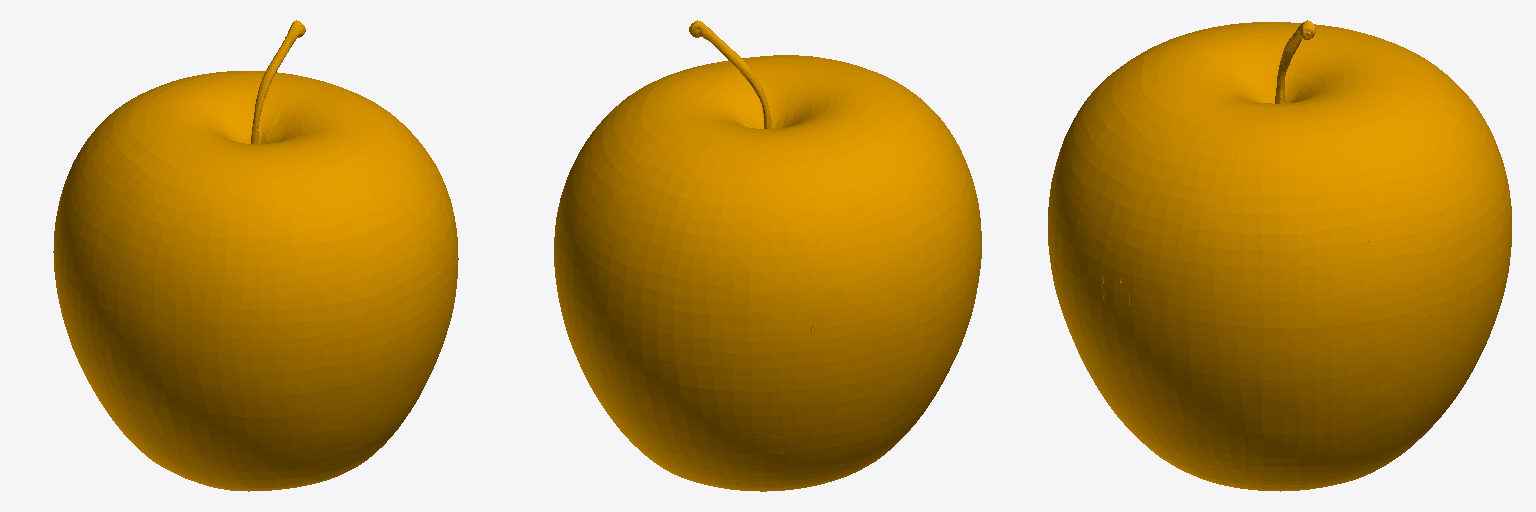
robot.urdf — sample:
<?xml version="1.0" ?>
<robot name="sample">
   <link name="sample">
      <visual>
         <origin xyz="0 0 0" rpy="1.5708 0.0 0.0"/>
         <geometry>
            <mesh filename="mesh/sample.obj" scale="1.0 1.0 1.0"/>
         </geometry>
      </visual>
      <collision>
         <origin xyz="0 0 0" rpy="1.5708 0.0 0.0"/>
         <geometry>
            <mesh filename="mesh/sample_collision.obj" scale="1.0 1.0 1.0"/>
         </geometry>
         <gazebo>
            <mu1>0.40</mu1>
            <mu2>0.30</mu2>
         </gazebo>
      </collision>
      <inertial>
         <mass value="0.1750"/>
         <origin xyz="0 0 0"/>
         <inertia ixx="1.0" ixy="0.0" ixz="0.0" iyy="1.0" iyz="0.0" izz="1.0"/>
      </inertial>
      <extra_info>
         <scale>0.090000</scale>
         <version>v0.1.7</version>
         <category>apple</category>
         <description>green apple with stem on top</description>
         <min_height>0.08</min_height>
         <max_height>0.1</max_height>
         <real_height>0.09</real_height>
         <min_mass>0.15</min_mass>
         <max_mass>0.2</max_mass>
         <color>green</color>
         <rgba>[0.0, 1.0, 0.0, 1.0]</rgba>
         <generate_time>20260526145257</generate_time>
         <gs_model>mesh/sample_gs.ply</gs_model>
      </extra_info>
   </link>
   <custom_data>
      <quality>
         <MeshGeoChecker>YES</MeshGeoChecker>
         <ImageSegChecker>NO. Background artifacts present; object not cleanly isolated.</ImageSegChecker>
         <ImageAestheticChecker>4.711460590362549</ImageAestheticChecker>
         <overall>NO</overall>
      </quality>
   </custom_data>
</robot>

--- What the picture shows (computed from the rendered views, not written in the file) ---
The picture shows the robot from 3 angles, left to right: view 1: azimuth 30°, elevation 25°; view 2: azimuth 150°, elevation 25°; view 3: azimuth 270°, elevation 25°; orthographic projection.
Model sample with 1 links and 0 joints (none), rooted at sample, posed every joint at zero.
Visible links, largest first — view 1: sample; view 2: sample; view 3: sample.
Boxes of the visible links, bbox=[...] form: sample: bbox=[53, 20, 458, 491]; sample: bbox=[554, 20, 981, 491]; sample: bbox=[1048, 20, 1511, 491].
Size in the robot's own frame: 0.0802 by 0.0826 by 0.09 metres.
Meshes: 1 distinct files referenced, 1 mesh visuals loaded (1 OBJ).
